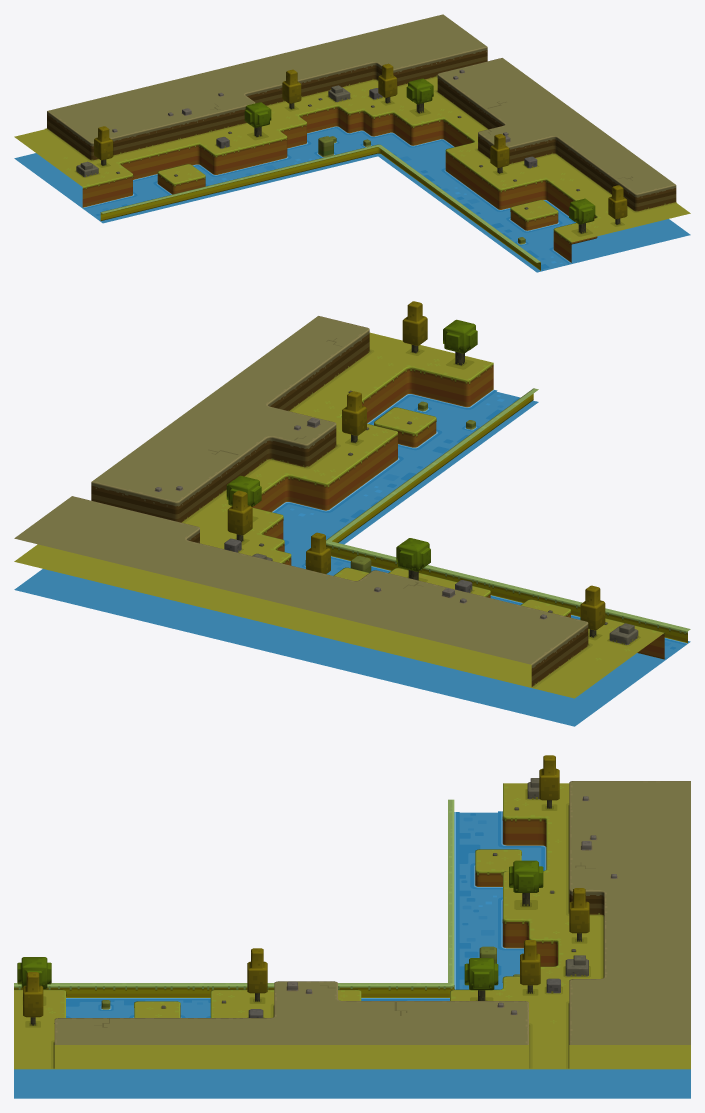
Rendered from C_water2_out_LD.fbx.
3 views of the same model, one above another, from view 1: azimuth 30°, elevation 25°; view 2: azimuth 150°, elevation 25°; view 3: azimuth 270°, elevation 25° (orthographic). The views are drawn at different scales.
Visible parts, largest first — view 1: C_water2_out_LD; view 2: C_water2_out_LD; view 3: C_water2_out_LD.
Part boxes in pixels (box(x1,y1,x2,y2)): C_water2_out_LD: box(14, 14, 690, 272); C_water2_out_LD: box(14, 301, 690, 726); C_water2_out_LD: box(14, 755, 690, 1098).
Size of the model in its own units: 117 by 15.34 by 117.
